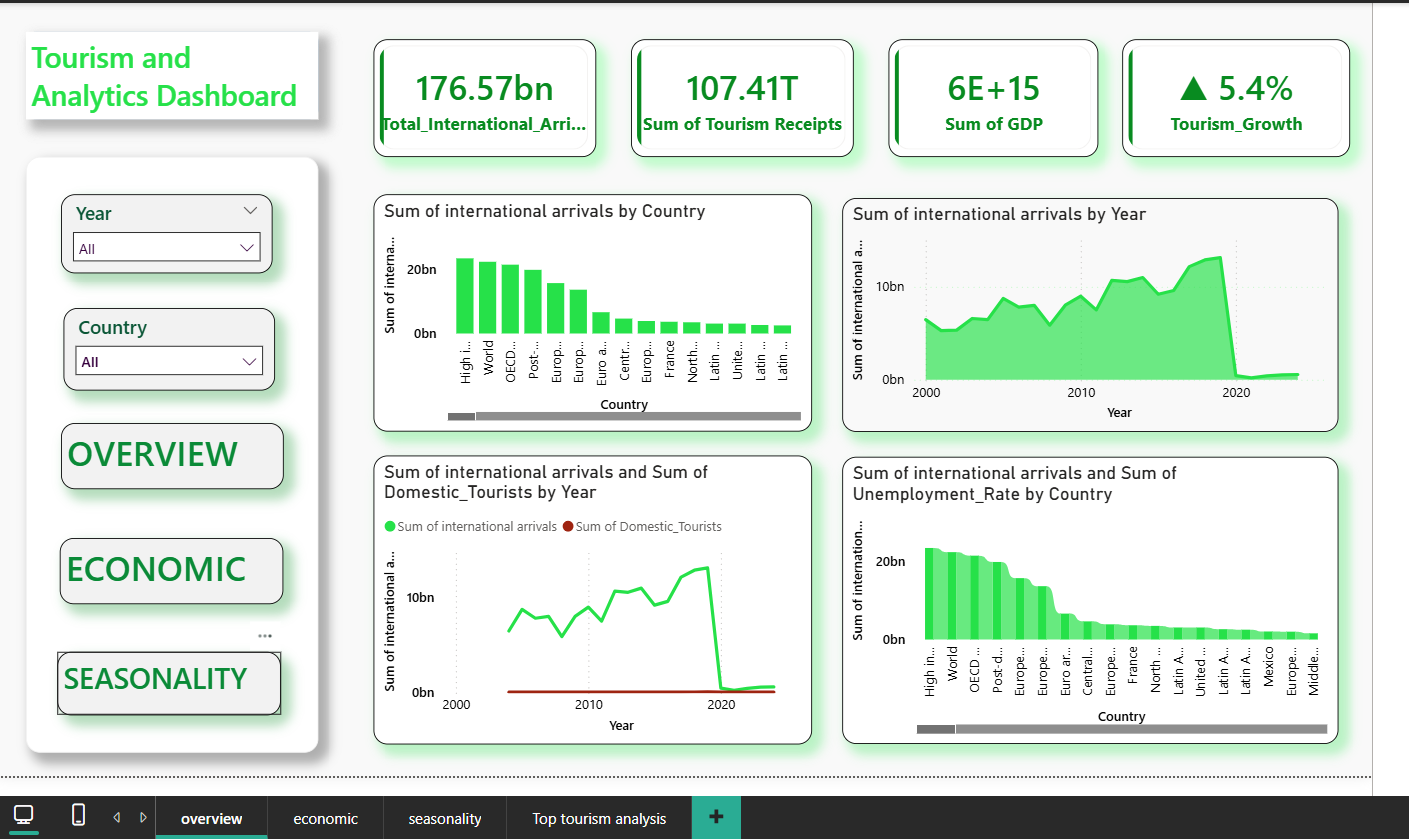

This screenshot's page, from the dashboard's own definition file:
{"tool":"powerbi","page":{"name":"overview","canvas":[1280,720],"ordinal":0},"visuals":[{"type":"shape","box":[27.9,143,272.1,554.7],"z":0},{"type":"shape","box":[27.9,26.7,272.1,81.4],"z":1000},{"type":"clusteredColumnChart","fields":{"Y":["Sum(world tourism.international arrivals)"],"Category":["Dim_Country.Country"]},"box":[351.2,177.9,408.1,220.9],"z":2000},{"type":"cardVisual","fields":{"Data":["Sum(world tourism.Tourism_Receipts)"]},"box":[590.7,33.7,207,109.3],"z":3000},{"type":"areaChart","fields":{"Category":["Dim_Year.Year"],"Y":["Sum(world tourism.international arrivals)"]},"box":[787.2,181.4,461.6,217.4],"z":4000},{"type":"lineChart","fields":{"Category":["Dim_Year.Year"],"Y":["Sum(world tourism.international arrivals)","Sum(domestic.Domestic_Tourists)"]},"box":[351.2,420.9,408.1,268.6],"z":5000},{"type":"cardVisual","fields":{"Data":["Sum(world tourism.GDP)"]},"box":[830.2,33.7,195.3,109.3],"z":6000},{"type":"ribbonChart","fields":{"Category":["Dim_Country.Country"],"Y":["Sum(world tourism.international arrivals)"]},"box":[787.2,422.1,461.6,267.4],"z":7000},{"type":"textbox","box":[27.9,26.7,272.1,81.4],"z":8000},{"type":"slicer","fields":{"Values":["Dim_Year.Year"]},"box":[60.5,177.9,196.5,73.3],"z":9000},{"type":"slicer","fields":{"Values":["Dim_Country.Country"]},"box":[62.8,283.7,196.5,76.7],"z":10000},{"type":"textbox","box":[60.5,390.7,207,61.6],"z":11000},{"type":"textbox","box":[59.3,497.7,208.1,61.6],"z":12000},{"type":"textbox","box":[57,603.5,208.1,59.3],"z":13000},{"type":"cardVisual","fields":{"Data":["Dim_Country.Tourism_Growth_Display"]},"box":[1047.7,33.7,211.6,109.3],"z":14000},{"type":"cardVisual","fields":{"Data":["world tourism.Total_International_Arrivals"]},"box":[351.2,33.7,207,109.3],"z":15000}]}

Visuals, with their boxes on the page's 1280x720 design canvas (x1, y1, x2, y2). These are canvas units, not pixel positions in the 1409x839 screenshot, which may show the page scaled, cropped or inside an application window:
shape: locate(28, 143, 300, 698)
shape: locate(28, 27, 300, 108)
clusteredColumnChart - Sum(world tourism.international arrivals) x Dim_Country.Country: locate(351, 178, 759, 399)
cardVisual - Sum(world tourism.Tourism_Receipts): locate(591, 34, 798, 143)
areaChart - Dim_Year.Year x Sum(world tourism.international arrivals): locate(787, 181, 1249, 399)
lineChart - Dim_Year.Year x Sum(world tourism.international arrivals): locate(351, 421, 759, 690)
cardVisual - Sum(world tourism.GDP): locate(830, 34, 1026, 143)
ribbonChart - Dim_Country.Country x Sum(world tourism.international arrivals): locate(787, 422, 1249, 690)
textbox: locate(28, 27, 300, 108)
slicer - Dim_Year.Year: locate(60, 178, 257, 251)
slicer - Dim_Country.Country: locate(63, 284, 259, 360)
textbox: locate(60, 391, 268, 452)
textbox: locate(59, 498, 267, 559)
textbox: locate(57, 604, 265, 663)
cardVisual - Dim_Country.Tourism_Growth_Display: locate(1048, 34, 1259, 143)
cardVisual - world tourism.Total_International_Arrivals: locate(351, 34, 558, 143)
